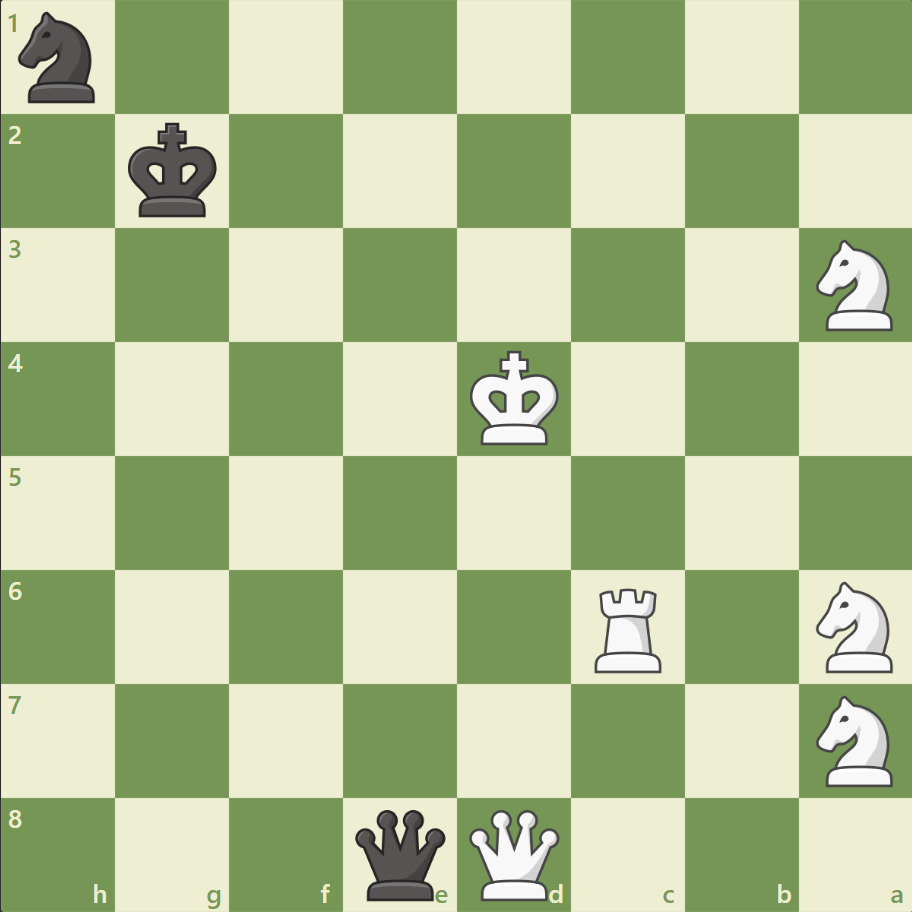K: (465, 344, 565, 452)
N: (806, 688, 903, 791), (806, 234, 903, 337), (806, 575, 903, 677)
Q: (464, 804, 563, 903)
R: (587, 579, 670, 676)
k: (124, 117, 224, 225)
n: (11, 7, 108, 110)
q: (351, 804, 450, 903)
